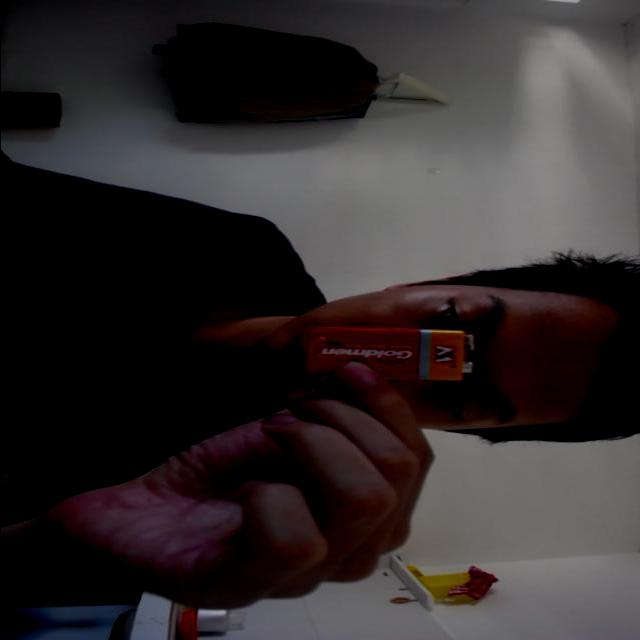9V: (272, 316, 486, 392)
